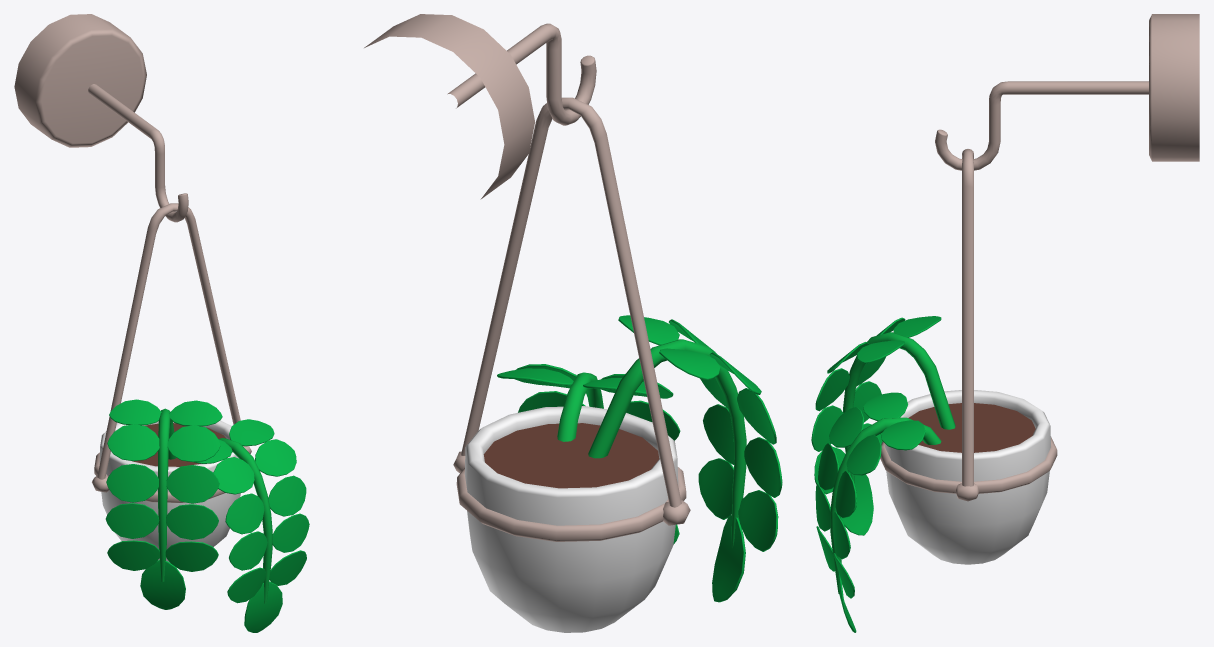
File: Farm_1_Wall_Plant_1.glb
3 views of the same model, side by side, from view 1: azimuth 30°, elevation 25°; view 2: azimuth 150°, elevation 25°; view 3: azimuth 270°, elevation 25° (orthographic). The views are drawn at different scales.
Visible parts, largest first — view 1: Farm_1_Wall_Plant_1; view 2: Farm_1_Wall_Plant_1; view 3: Farm_1_Wall_Plant_1.
Part boxes in pixels (bbox=[...]): Farm_1_Wall_Plant_1: bbox=[14, 14, 309, 632]; Farm_1_Wall_Plant_1: bbox=[364, 14, 782, 632]; Farm_1_Wall_Plant_1: bbox=[811, 14, 1199, 632].
Bounding box in the file's own units: 0.4731 × 1.23 × 0.7312.
1 material, 1 textured.
